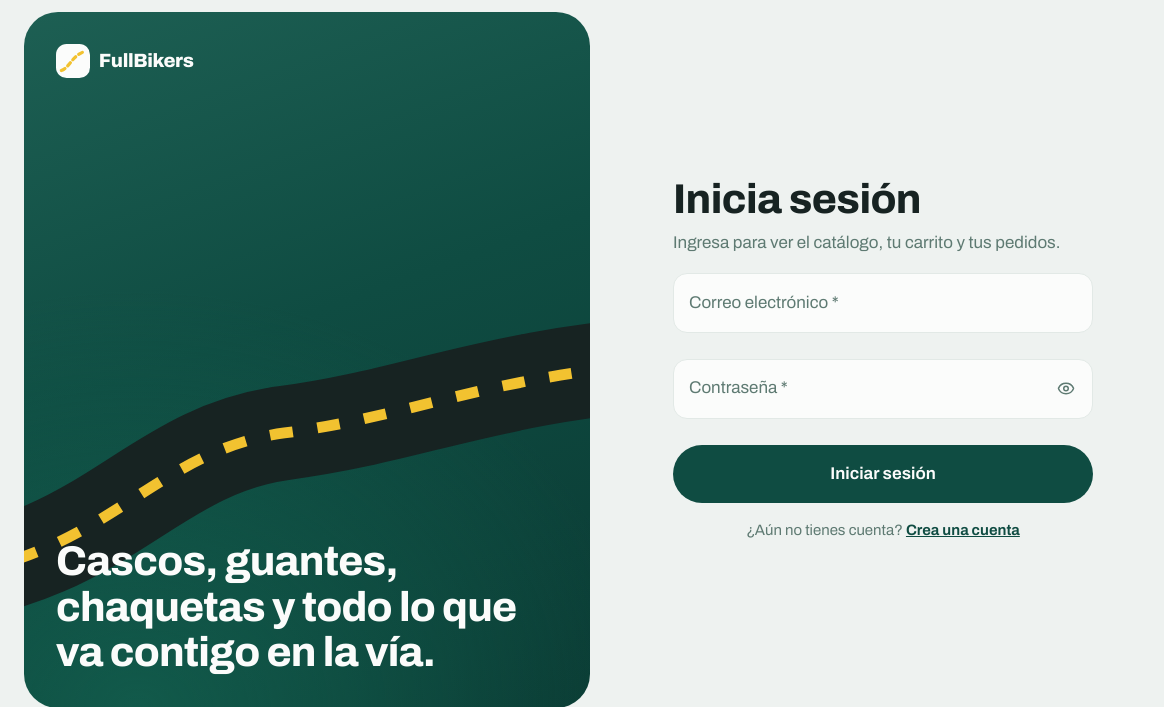
Test: autenticación › inicia sesión, guarda el token y vuelve a la página pedida
Type "ana@ejemplo.com" into the field labelled "Correo electrónico *". click: (883, 303)
box: x1=673 y1=273 x2=1093 y2=333
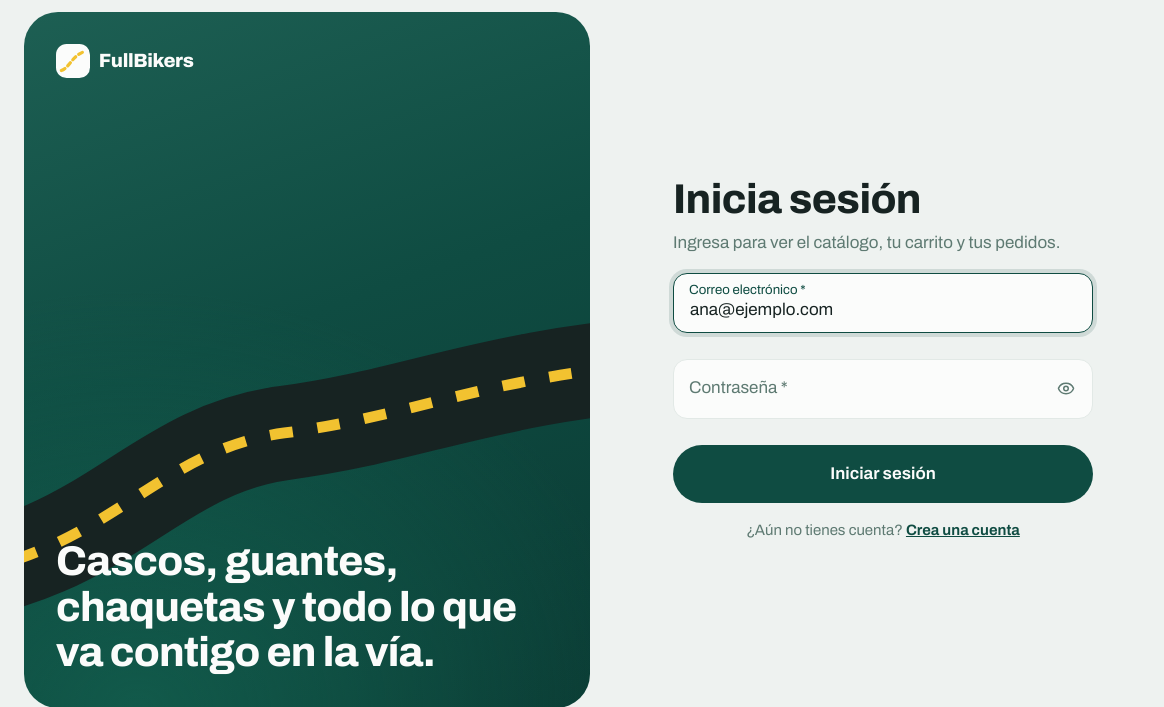
Type "Segura2026" into the password field labelled "Contraseña *". click: (883, 389)
box: x1=673 y1=359 x2=1093 y2=419
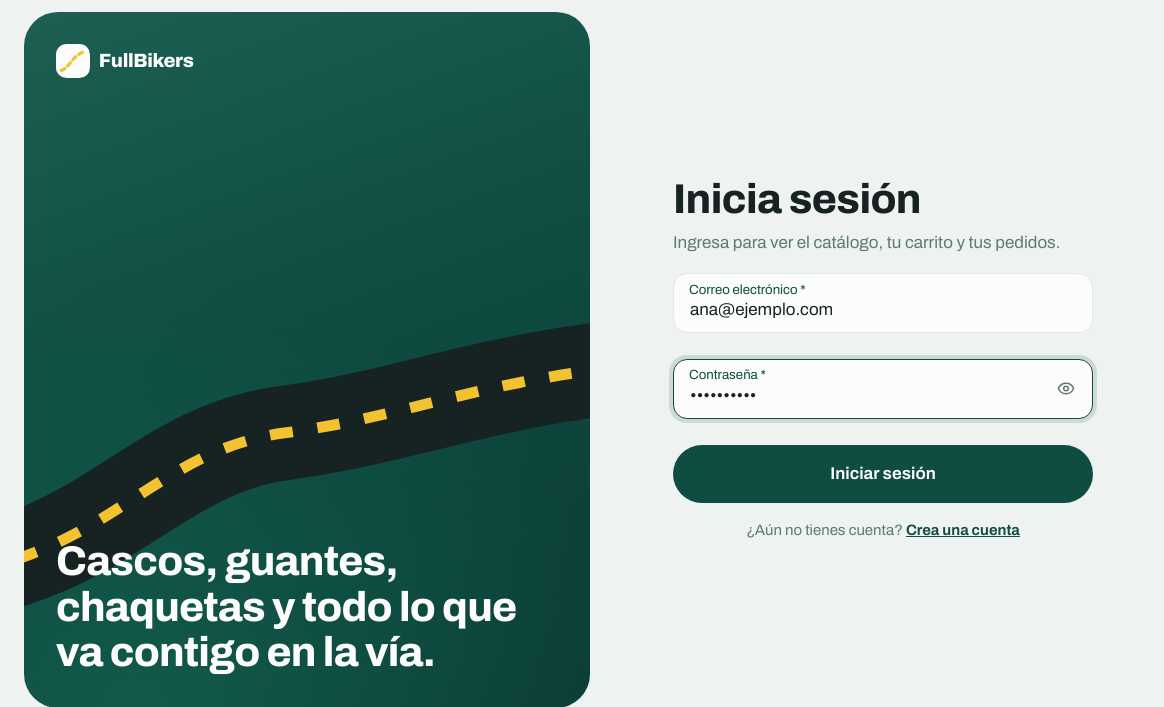
Click the button "Iniciar sesión". click: (883, 474)
box: x1=673 y1=445 x2=1093 y2=503
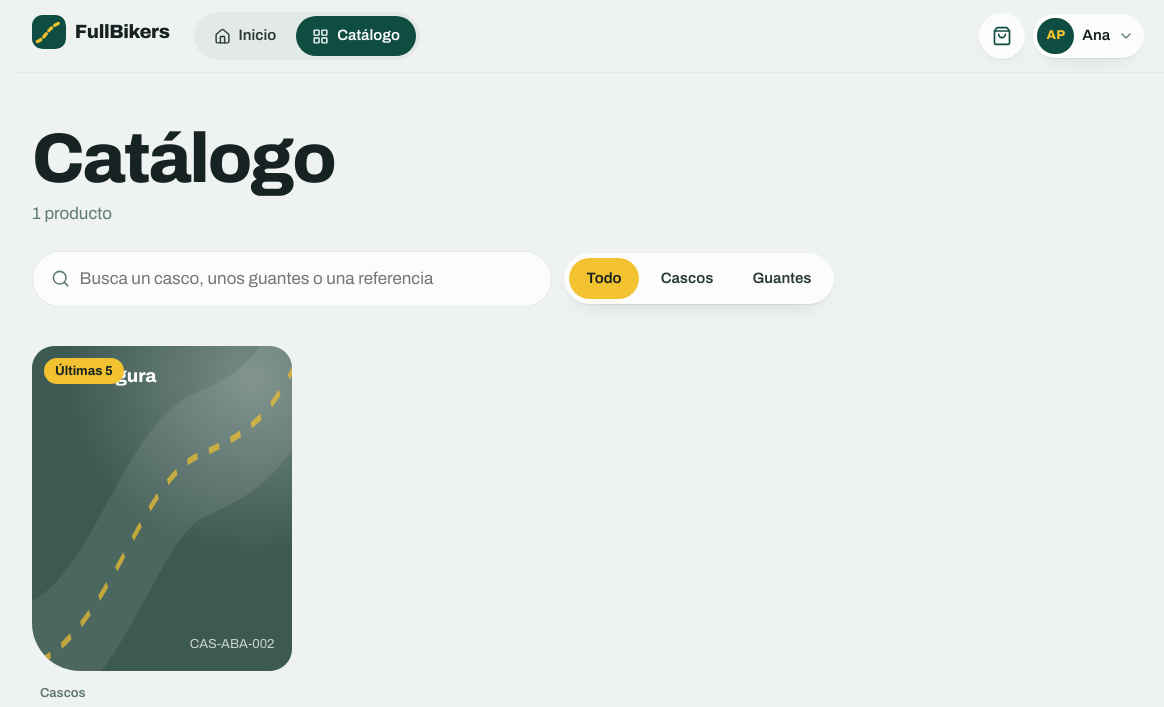
Now the heading "Catálogo" is shown, box x1=32 y1=120 x2=335 y2=197
